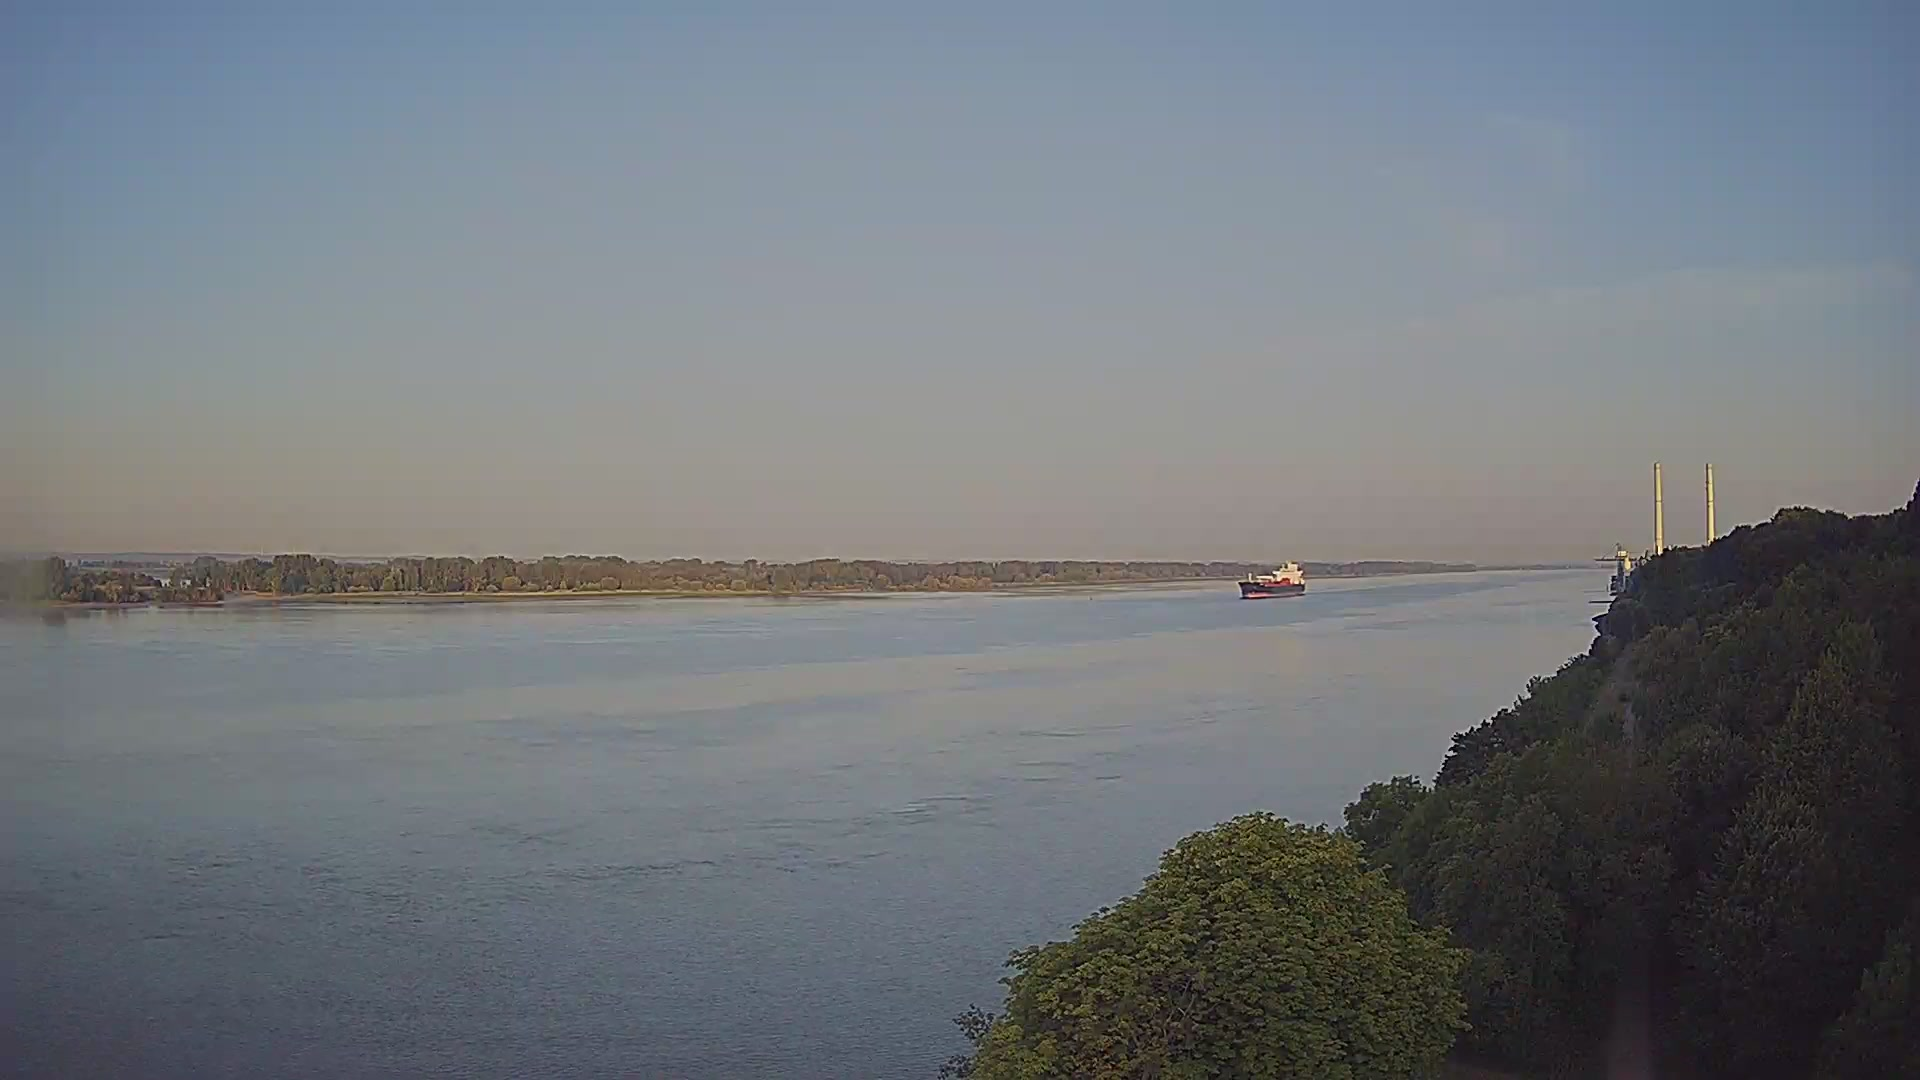sea: (1236, 558, 1305, 599)
